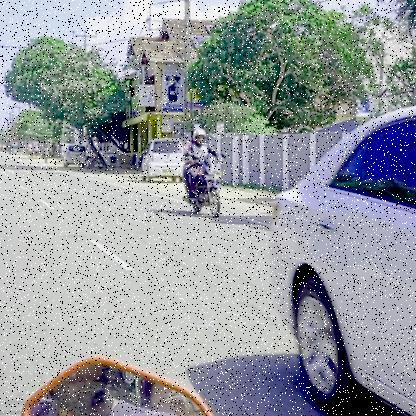motorcycle: (193, 157, 227, 220)
